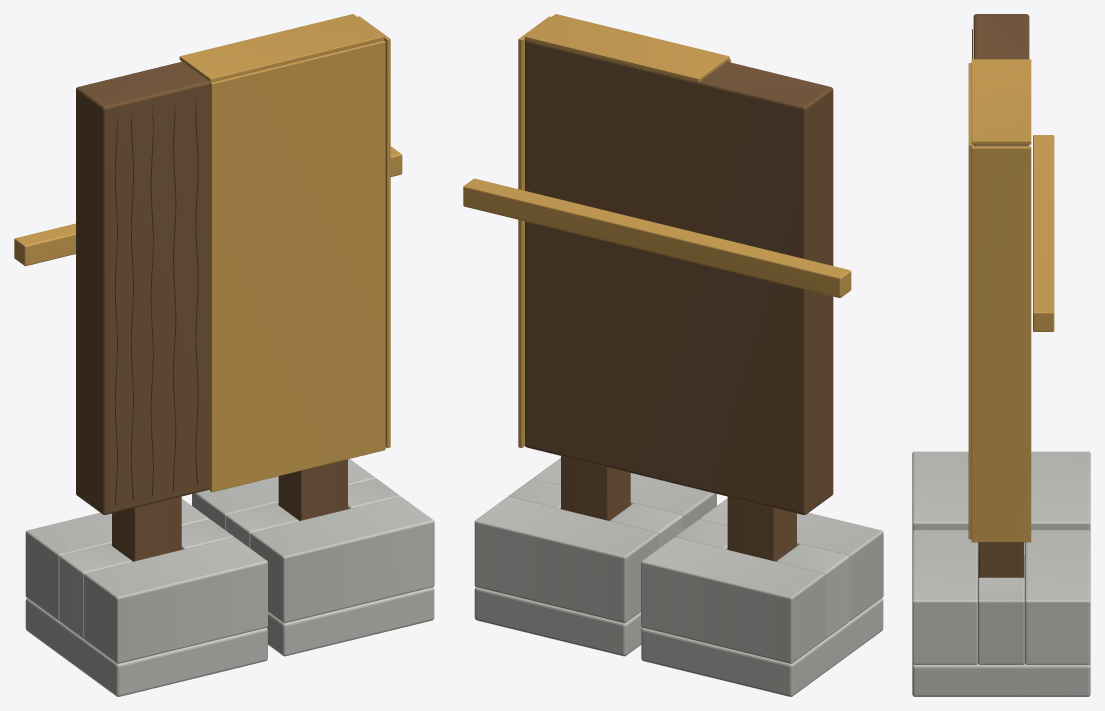
File: board-joint.glb
3 views of the same model, side by side, from view 1: azimuth 30°, elevation 25°; view 2: azimuth 150°, elevation 25°; view 3: azimuth 270°, elevation 25° (orthographic). The views are drawn at different scales.
Visible parts, largest first — view 1: board-joint-gold-cover, board-joint-acacia-core, board-joint-cast-silver, board-joint-cast-silver.001, board-joint-acacia-grain; view 2: board-joint-acacia-core, board-joint-cast-silver, board-joint-cast-silver.001, board-joint-gold-cover; view 3: board-joint-gold-cover, board-joint-cast-silver.001, board-joint-cast-silver, board-joint-acacia-core.
Part boxes in pixels (bbox=[...]): board-joint-gold-cover: bbox=[14, 14, 402, 492]; board-joint-acacia-core: bbox=[76, 61, 347, 561]; board-joint-cast-silver: bbox=[25, 498, 267, 696]; board-joint-cast-silver.001: bbox=[192, 459, 434, 656]; board-joint-acacia-grain: bbox=[115, 96, 198, 504]; board-joint-acacia-core: bbox=[525, 40, 833, 561]; board-joint-cast-silver: bbox=[641, 498, 883, 696]; board-joint-cast-silver.001: bbox=[474, 458, 716, 656]; board-joint-gold-cover: bbox=[463, 14, 851, 447]; board-joint-gold-cover: bbox=[968, 59, 1054, 542]; board-joint-cast-silver.001: bbox=[912, 530, 1090, 696]; board-joint-cast-silver: bbox=[912, 451, 1090, 530]; board-joint-acacia-core: bbox=[973, 14, 1029, 577].
Bounding box in the file's own units: 0.59 × 0.846 × 0.25.
